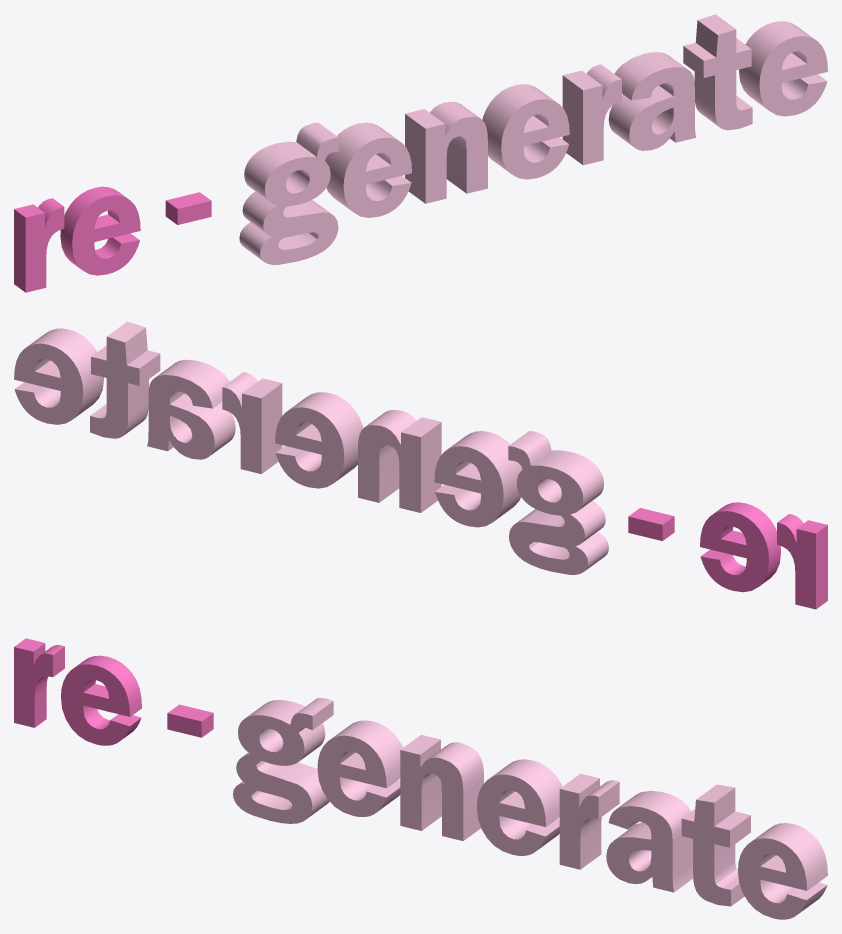
File: Regenerate.gltf
3 views of the same model, one above another, from view 1: azimuth 30°, elevation 25°; view 2: azimuth 150°, elevation 25°; view 3: azimuth 330°, elevation 25° (orthographic).
Parts seen in each view (by area): view 1: re__generate1; view 2: re__generate1; view 3: re__generate1.
Part boxes in pixels (x1,y1,x2,y2): re__generate1: [14, 14, 827, 292]; re__generate1: [14, 321, 827, 609]; re__generate1: [14, 638, 827, 919].
Bounding box in the file's own units: 38.94 × 5.87 × 1.75.
